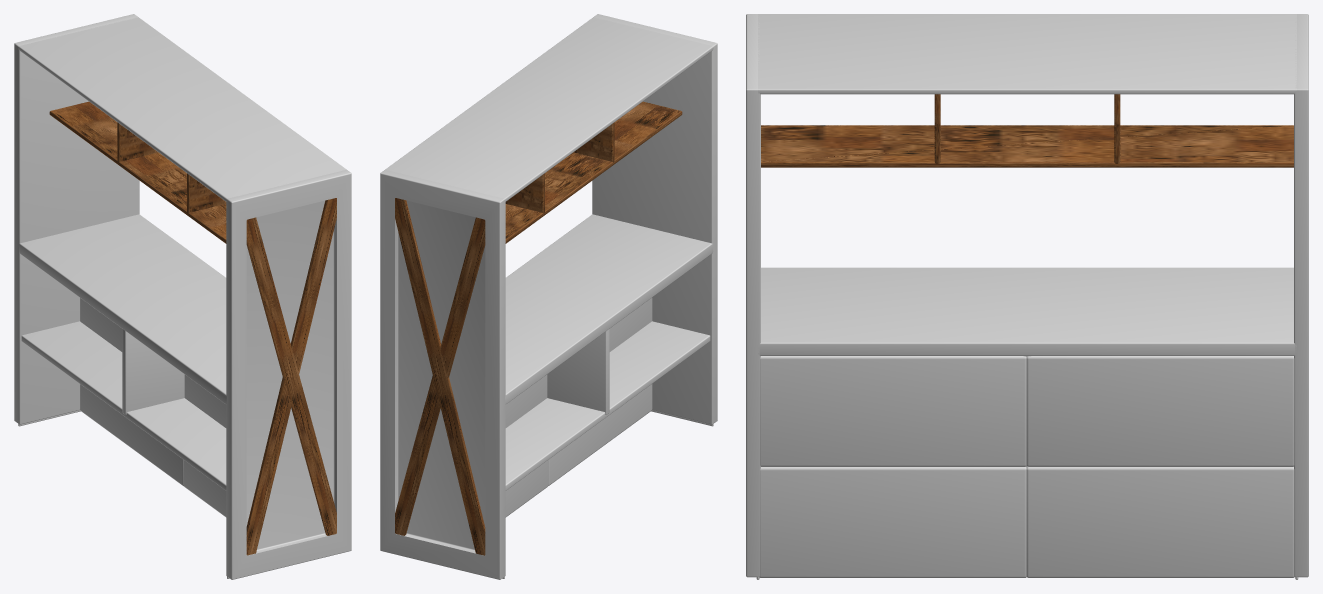
The model's file is Wardbore.dae.
The picture shows the model from 3 angles, left to right: view 1: azimuth 30°, elevation 25°; view 2: azimuth 150°, elevation 25°; view 3: azimuth 270°, elevation 25°; orthographic projection. The views are drawn at different scales.
Visible parts, largest first — view 1: Góra, Scianka_działowa.1, Scianka_działowa1, Blat, Scianka_działowa, Dział, Sześcian.1, Sześcian, Podstawa, Dział_1, Bryła.3, Bryła.2 (+4 smaller); view 2: Scianka_działowa (×2), Góra, Blat, Scianka_działowa.1, Dział, Sześcian.2, Podstawa, Sześcian.3, Dział_1, Bryła.2, Bryła.3, Bryła (+3 smaller); view 3: Blat, Góra, Bryła.3, Bryła.4, Bryła.2, Bryła, Podstawa, Scianka_działowa.1, Scianka_działowa.
Part boxes in pixels (<box>): Góra: <box>18,17,346,201</box>; Scianka_działowa.1: <box>14,14,139,424</box>; Scianka_działowa1: <box>246,200,336,555</box>; Blat: <box>19,214,226,404</box>; Scianka_działowa: <box>226,169,351,579</box>; Dział: <box>21,321,226,490</box>; Sześcian.1: <box>246,217,336,535</box>; Sześcian: <box>246,198,336,555</box>; Podstawa: <box>49,101,226,243</box>; Dział_1: <box>122,329,184,414</box>; Bryła.3: <box>80,384,183,486</box>; Bryła.2: <box>184,460,226,517</box>; Scianka_działowa (×2): <box>395,14,717,553</box>; Góra: <box>385,17,713,201</box>; Blat: <box>505,214,713,404</box>; Scianka_działowa.1: <box>380,169,505,579</box>; Dział: <box>505,321,710,490</box>; Sześcian.2: <box>395,198,485,555</box>; Podstawa: <box>505,101,682,243</box>; Sześcian.3: <box>395,217,485,535</box>; Dział_1: <box>547,329,609,414</box>; Bryła.2: <box>548,384,652,485</box>; Bryła.3: <box>505,460,548,517</box>; Bryła: <box>609,298,652,351</box>; Blat: <box>758,267,1296,355</box>; Góra: <box>758,14,1296,94</box>; Bryła.3: <box>1026,466,1294,577</box>; Bryła.4: <box>1026,356,1294,466</box>; Bryła.2: <box>759,466,1026,577</box>; Bryła: <box>760,356,1026,466</box>; Podstawa: <box>761,125,1293,167</box>; Scianka_działowa.1: <box>1294,14,1308,577</box>; Scianka_działowa: <box>746,14,760,577</box>.
Bounding box in the file's own units: 60 × 181 × 188.
Materials: 4 (1 with a texture image).
